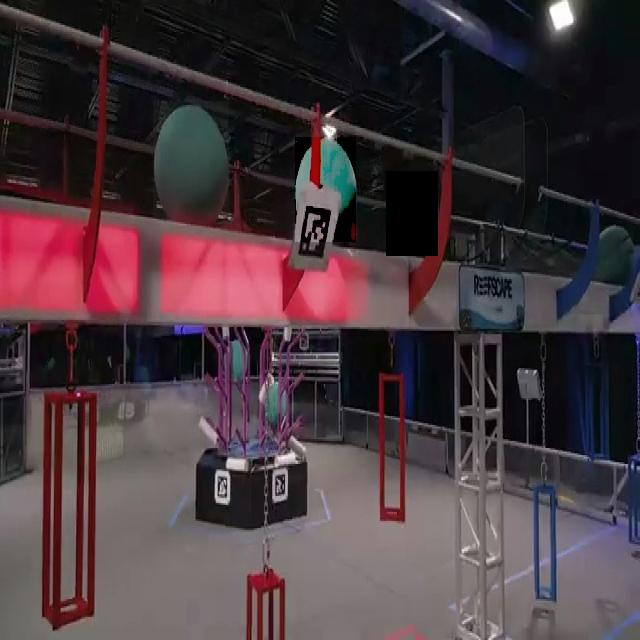Algae: (153, 101, 229, 226), (295, 137, 356, 242), (386, 171, 438, 256), (592, 225, 634, 291)
